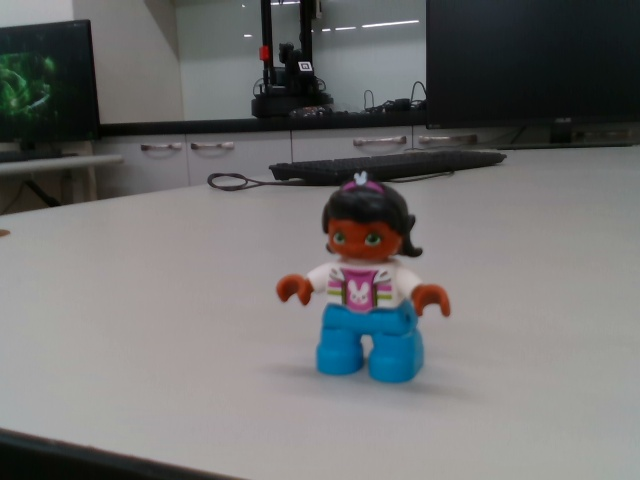people: (274, 168, 454, 386)
